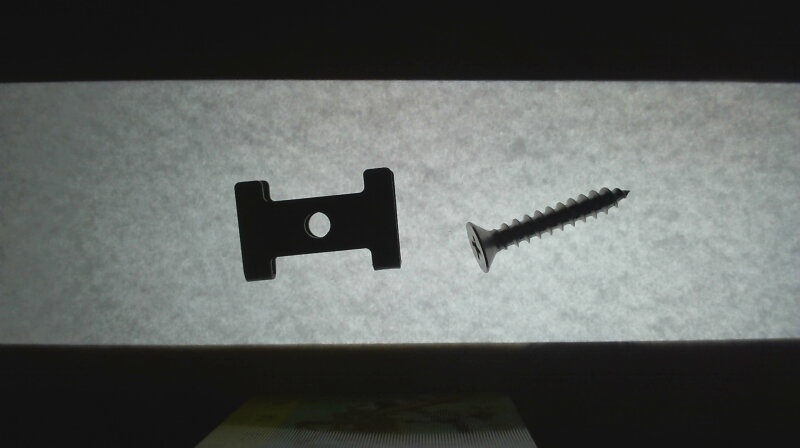O002: (227, 164, 407, 284)
S001: (460, 184, 638, 275)
